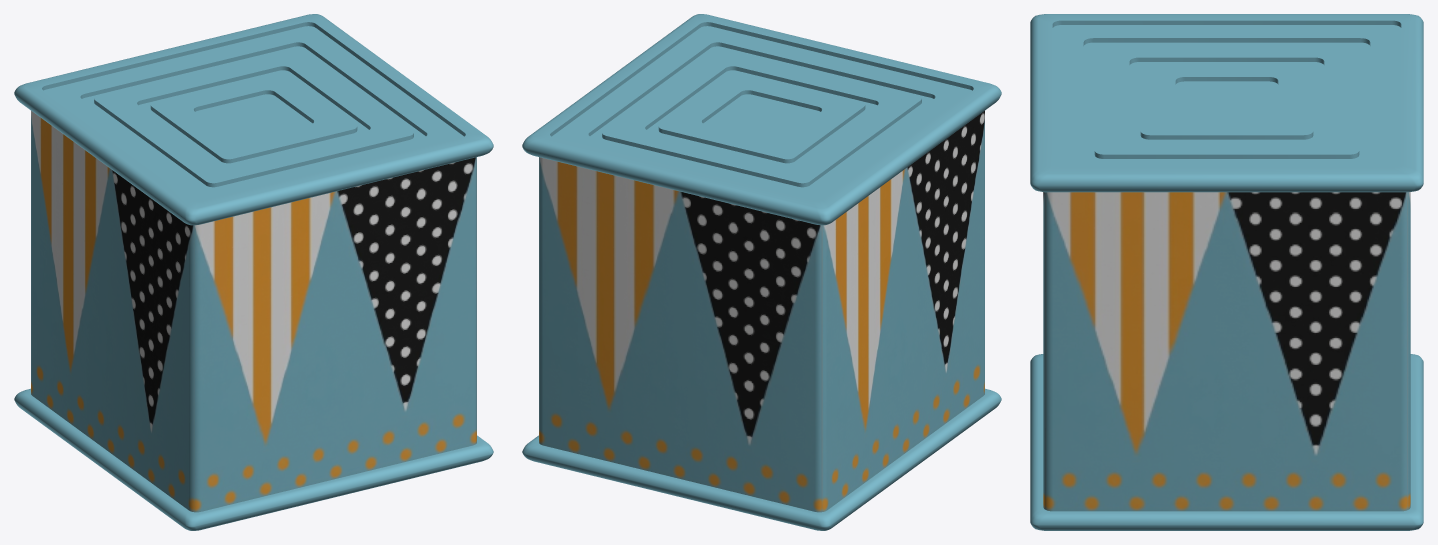
Rendered from CarnivalTinBox(1x1).fbx.
The picture shows the model from 3 angles, left to right: view 1: azimuth 30°, elevation 25°; view 2: azimuth 150°, elevation 25°; view 3: azimuth 270°, elevation 25°; orthographic projection. The views are drawn at different scales.
Visible parts, largest first — view 1: Cube; view 2: Cube; view 3: Cube.
Boxes of the visible parts, left/top/right/bottom form: Cube: left=14, top=14, right=493, bottom=530; Cube: left=522, top=14, right=1001, bottom=530; Cube: left=1030, top=14, right=1423, bottom=530.
Bounding box in the file's own units: 2 × 2 × 2.
2 materials, 2 textured.
